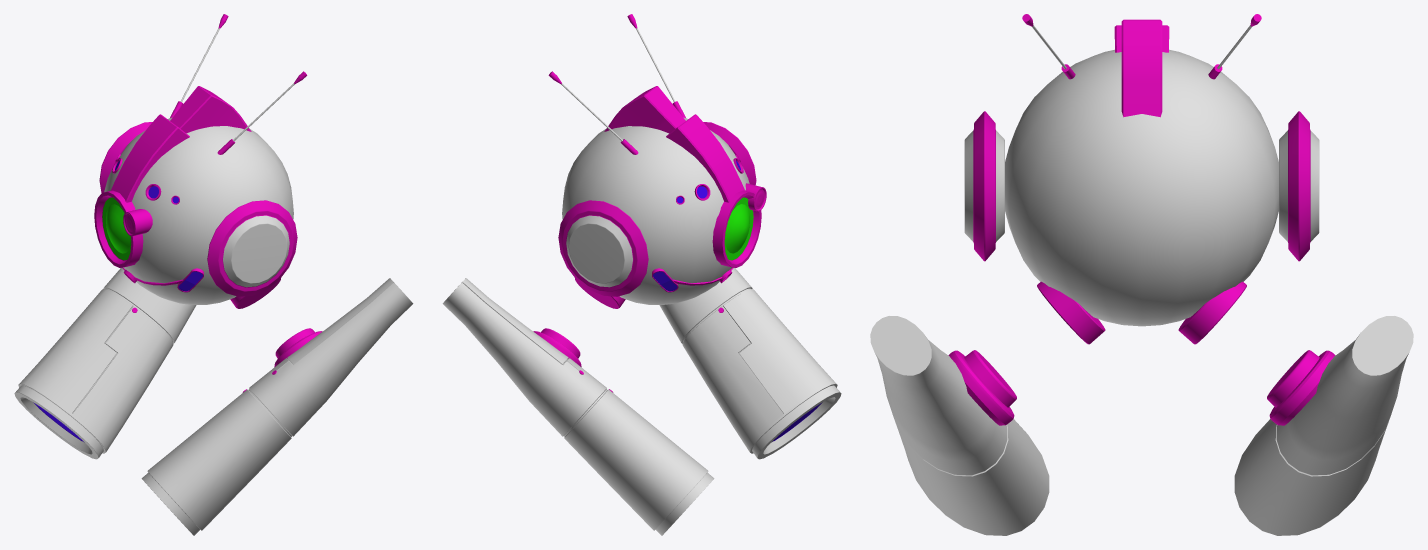
Rendered from SM_Player.fbx.
3 renders of one model, left to right at view 1: azimuth 30°, elevation 25°; view 2: azimuth 150°, elevation 25°; view 3: azimuth 270°, elevation 25°, orthographic. The views are drawn at different scales.
Parts seen in each view (by area): view 1: SM_MainSphere, SM_Arm_Right, SM_Arm_Left; view 2: SM_MainSphere, SM_Arm_Left, SM_Arm_Right; view 3: SM_MainSphere, SM_Arm_Left, SM_Arm_Right.
Part boxes in pixels (box(x1,y1,x2,y2)): SM_MainSphere: box(94, 14, 307, 308); SM_Arm_Right: box(141, 278, 413, 535); SM_Arm_Left: box(14, 268, 196, 459); SM_MainSphere: box(548, 14, 766, 308); SM_Arm_Left: box(442, 278, 714, 535); SM_Arm_Right: box(659, 268, 841, 459); SM_MainSphere: box(964, 14, 1319, 344); SM_Arm_Left: box(1234, 316, 1413, 535); SM_Arm_Right: box(870, 316, 1049, 535).
Bounding box in the file's own units: 2.19 × 3.57 × 2.88.
